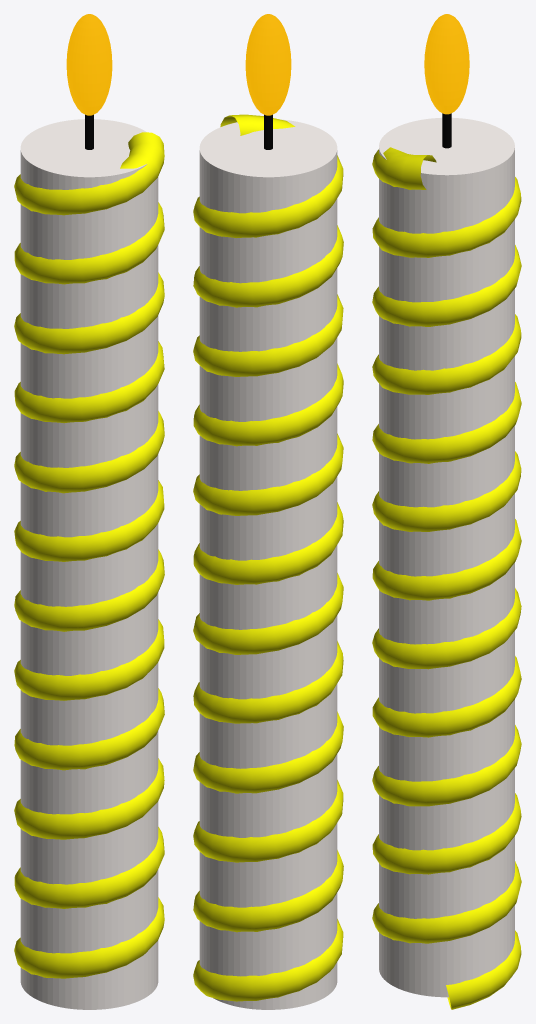
File: wax1.glb
The picture shows the model from 3 angles, left to right: view 1: azimuth 30°, elevation 25°; view 2: azimuth 150°, elevation 25°; view 3: azimuth 270°, elevation 25°; orthographic projection.
Parts seen in each view (by area): view 1: Candle, SpiralCurve, Flame; view 2: Candle, SpiralCurve, Flame; view 3: Candle, SpiralCurve, Flame.
Part boxes in pixels (x1,y1,x2,y2): Candle: [20, 119, 158, 1009]; SpiralCurve: [14, 132, 164, 978]; Flame: [66, 14, 112, 115]; Candle: [199, 119, 337, 1009]; SpiralCurve: [193, 114, 343, 1001]; Flame: [245, 14, 291, 115]; Candle: [379, 117, 514, 997]; SpiralCurve: [372, 147, 521, 1009]; Flame: [424, 14, 469, 114].
Bounding box in the file's own units: 0.1713 × 1.22 × 0.1713.
